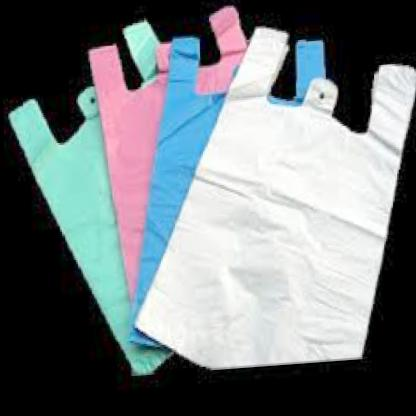Plastic: (5, 0, 416, 412)
